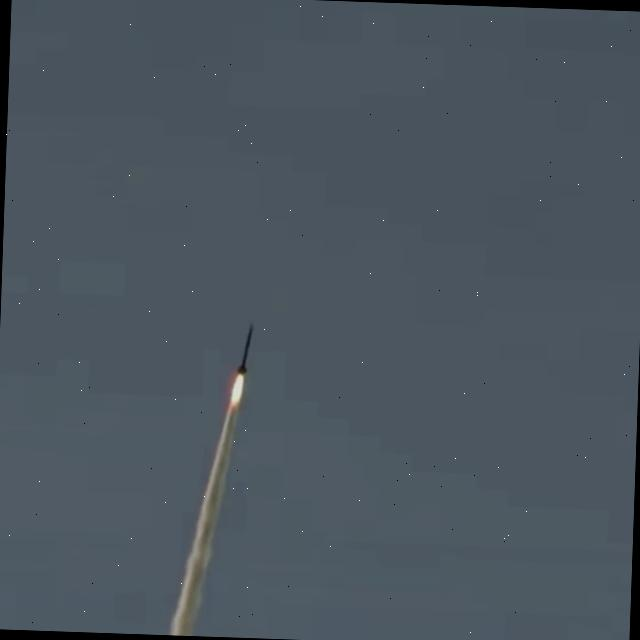rocket: (234, 325, 254, 374)
smoke_trail_with_rocket: (168, 326, 251, 636)
